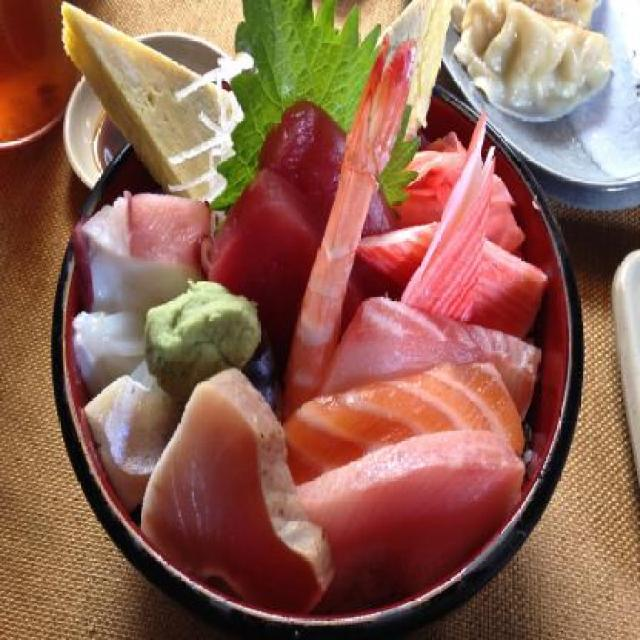Cheese: (61, 0, 230, 200)
